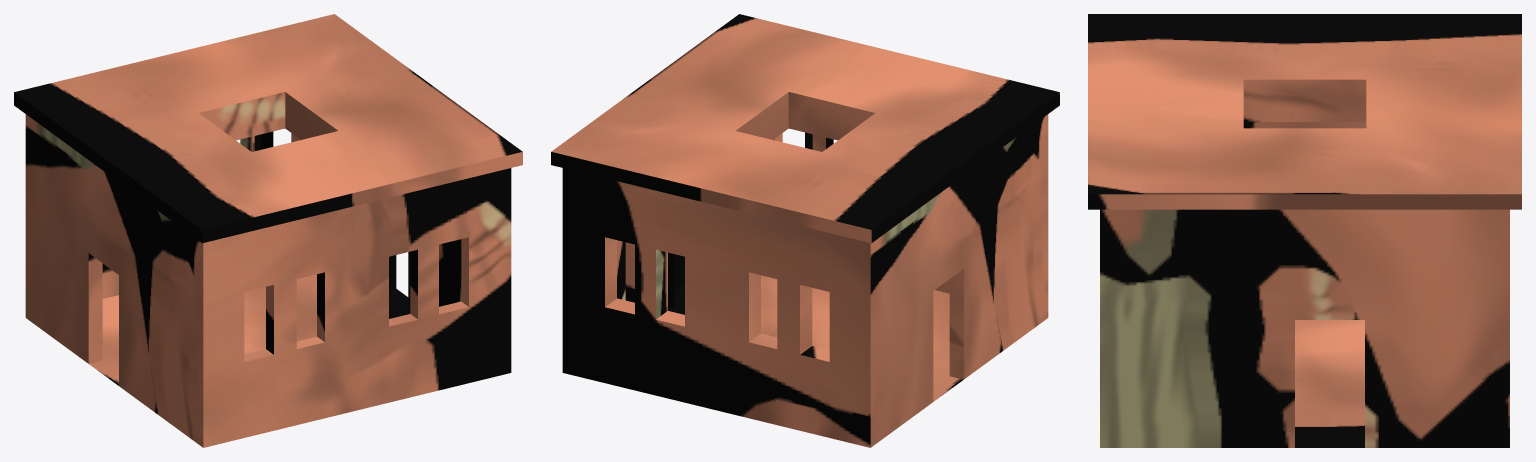
File: Tower_Top_02.fbx
3 views of the same model, side by side, from view 1: azimuth 30°, elevation 25°; view 2: azimuth 150°, elevation 25°; view 3: azimuth 270°, elevation 25° (orthographic). The views are drawn at different scales.
Visible parts, largest first — view 1: Tower_Top_02; view 2: Tower_Top_02; view 3: Tower_Top_02.
Part boxes in pixels (x1=…): Tower_Top_02: x1=14, y1=14, x2=522, y2=447; Tower_Top_02: x1=551, y1=14, x2=1059, y2=447; Tower_Top_02: x1=1088, y1=14, x2=1521, y2=447.
Bounding box in the file's own units: 2.08 × 1.39 × 2.12.
